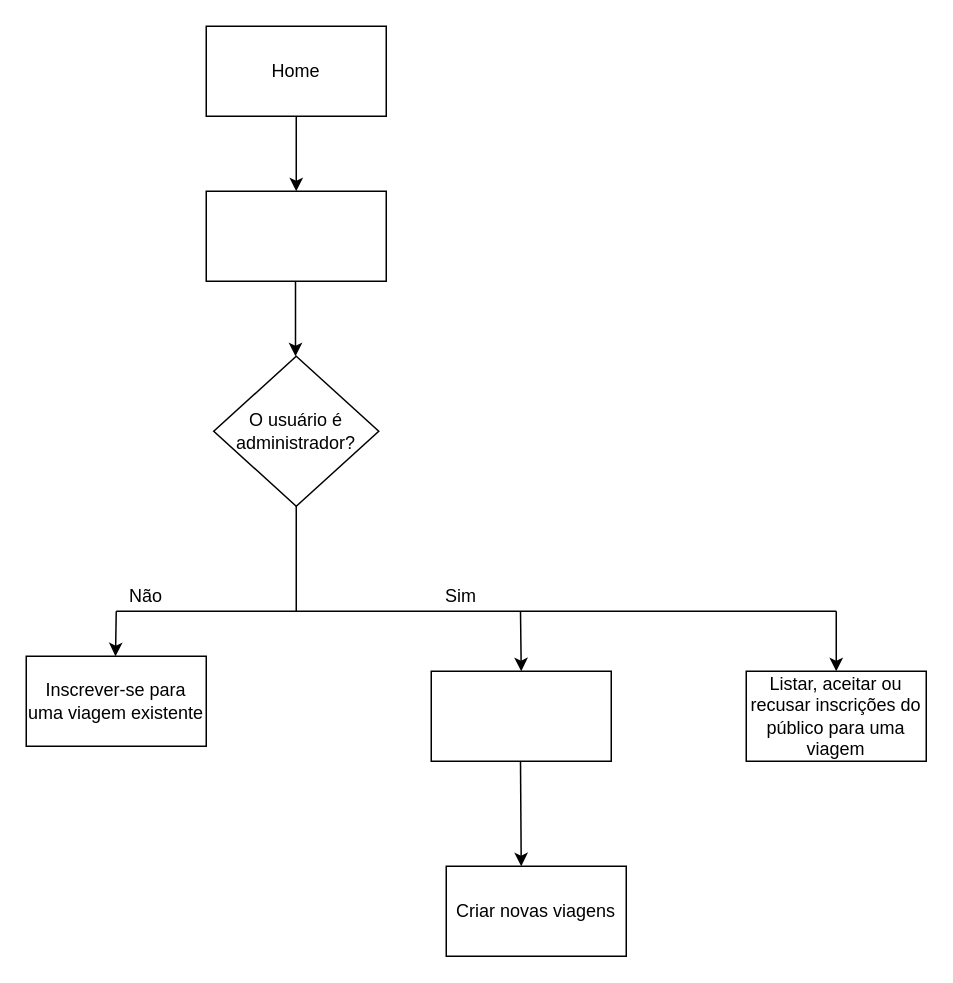
Image size: 953x983. Some labels were removed from this diagram. The box of each missing label's shape, as (x1, y1, x2, y2) in pixels:
Listar viagens existentes: (430, 670, 611, 761)
Login: (205, 190, 386, 281)
